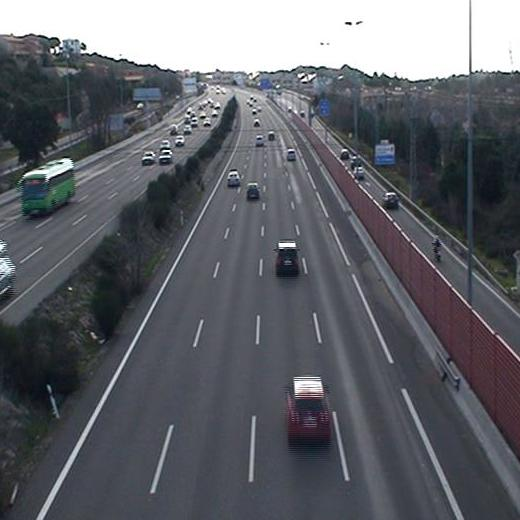car: (286, 376, 327, 442), (276, 242, 300, 272), (226, 169, 242, 185), (246, 184, 260, 199), (254, 134, 266, 147), (285, 150, 297, 162)
